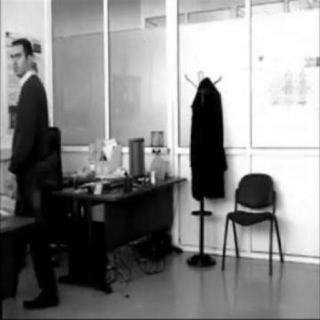other: (0, 188, 16, 220)
